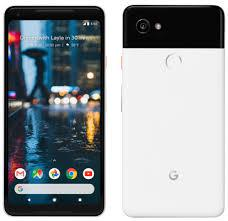Smartphone: (121, 7, 223, 211), (5, 2, 104, 212)
